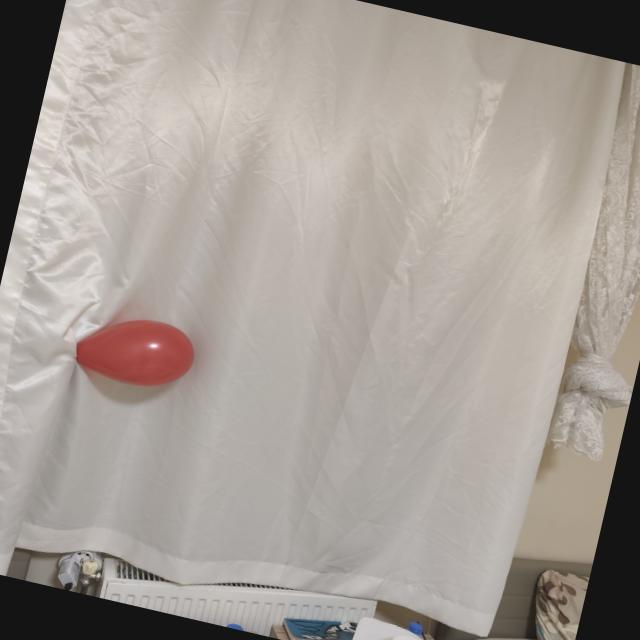balloon: (77, 320, 194, 386)
